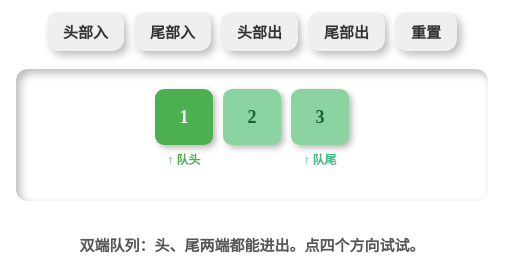
Test case: DequeViz 双端队列互动 › TC-VIZ-DEQUEVIZ-05 头部出：剩 2 dqitem、首位变 2、status 含「头」
Click the button "头部出".
click(260, 32)  # box left=221, top=12, right=298, bottom=51
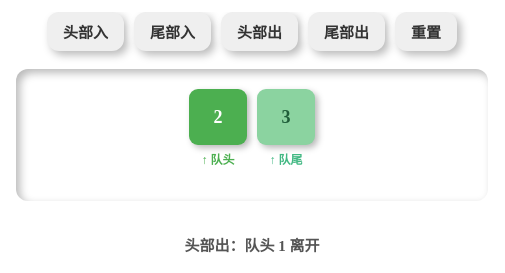
Expected: the text "2" is shown, left=189, top=89, right=247, bottom=145
Now the number of elements with class "dqitem" is 2, box left=189, top=89, right=247, bottom=145; left=257, top=89, right=315, bottom=145
